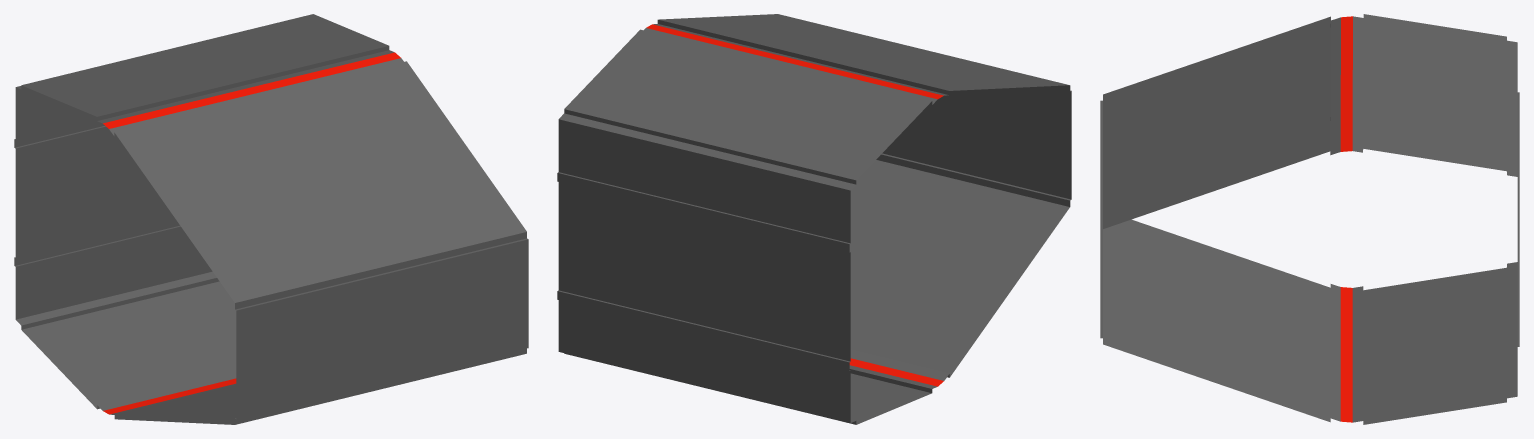
Rendered from Hall.fbx.
3 views of the same model, side by side, from view 1: azimuth 30°, elevation 25°; view 2: azimuth 150°, elevation 25°; view 3: azimuth 270°, elevation 25° (orthographic). The views are drawn at different scales.
Visible parts, largest first — view 1: Hall; view 2: Hall; view 3: Hall.
Boxes of the visible parts, x1,y1,x2,y2 form: Hall: (14, 14, 528, 424); Hall: (557, 14, 1071, 424); Hall: (1100, 14, 1519, 424).
Bounding box in the file's own units: 200 × 192 × 264.
